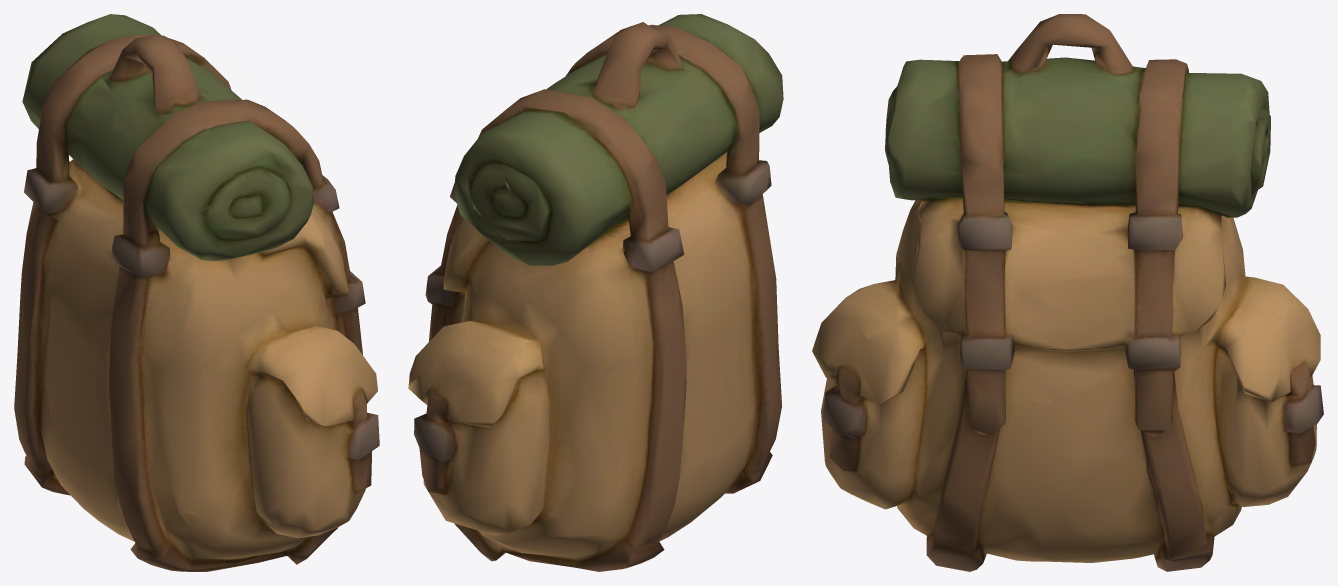
Rendered from x-backpack.glb.
The picture shows the model from 3 angles, left to right: view 1: azimuth 30°, elevation 25°; view 2: azimuth 150°, elevation 25°; view 3: azimuth 270°, elevation 25°; orthographic projection. The views are drawn at different scales.
Parts seen in each view (by area): view 1: tripo_node_23548902-7a0b-4f3e-a0f0-77ad5f419c84; view 2: tripo_node_23548902-7a0b-4f3e-a0f0-77ad5f419c84; view 3: tripo_node_23548902-7a0b-4f3e-a0f0-77ad5f419c84.
Boxes of the visible parts, x1,y1,x2,y2 form: tripo_node_23548902-7a0b-4f3e-a0f0-77ad5f419c84: (14, 14, 379, 571); tripo_node_23548902-7a0b-4f3e-a0f0-77ad5f419c84: (408, 14, 783, 571); tripo_node_23548902-7a0b-4f3e-a0f0-77ad5f419c84: (812, 14, 1323, 571).
Bounding box in the file's own units: 0.5181 × 1 × 0.9032.
1 material, 1 textured.
